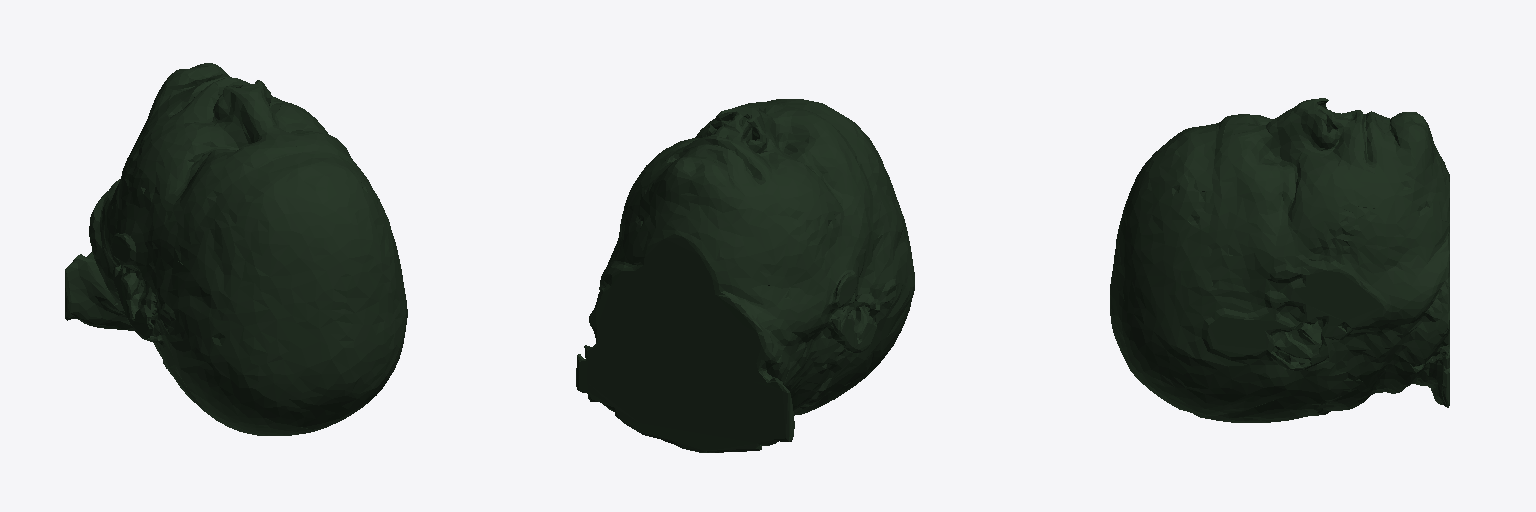
Rendered from humanhead.obj.
3 renders of one model, left to right at view 1: azimuth 30°, elevation 25°; view 2: azimuth 150°, elevation 25°; view 3: azimuth 270°, elevation 25°, orthographic.
Visible parts, largest first — view 1: head_grp1.003; view 2: head_grp1.003; view 3: head_grp1.003.
Boxes of the visible parts, x1=… form: head_grp1.003: x1=65, y1=63, x2=407, y2=435; head_grp1.003: x1=576, y1=99, x2=914, y2=452; head_grp1.003: x1=1110, y1=98, x2=1449, y2=422.
Size of the model in its own units: 170 by 233 by 232.